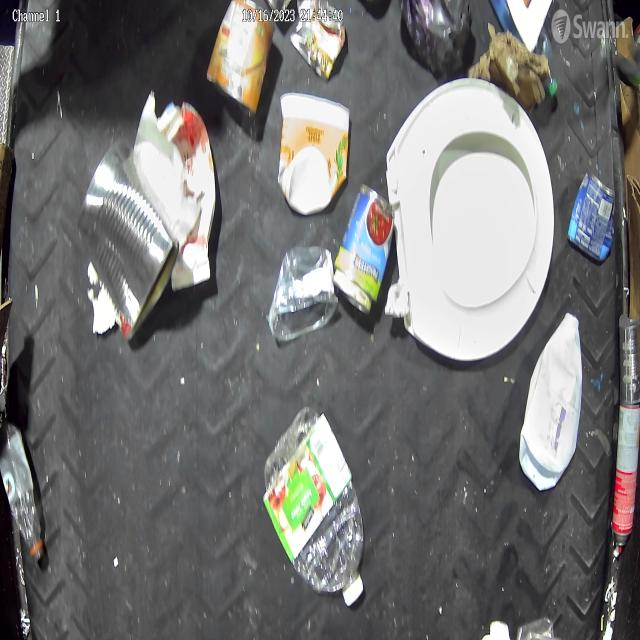can: (76, 136, 180, 334), (332, 183, 394, 315), (206, 0, 276, 116), (566, 170, 617, 264), (290, 0, 347, 80), (611, 406, 640, 554), (618, 317, 640, 407)
milk_jug: (518, 310, 583, 492)
plastic_bottle: (262, 404, 366, 606), (0, 420, 46, 562)
